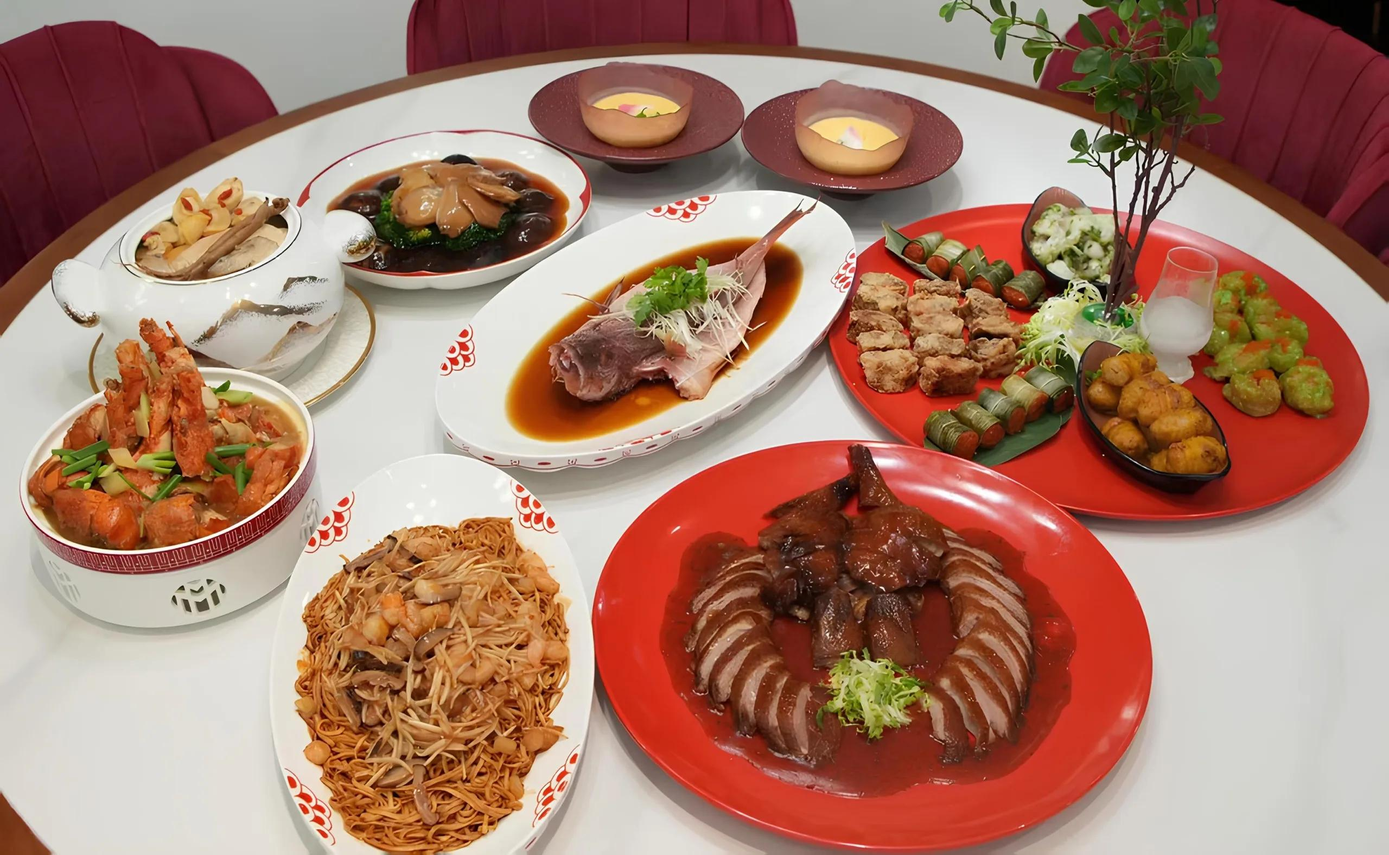Braised Crucian Carp: (595, 451, 1156, 855), (830, 210, 1372, 525), (269, 458, 594, 839), (444, 178, 865, 464), (18, 325, 322, 623), (287, 125, 597, 294)
